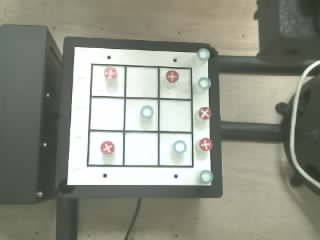blue circle: (198, 77, 212, 89), (197, 48, 210, 60), (173, 140, 186, 152), (141, 105, 153, 118), (200, 170, 212, 183)
board: (67, 46, 212, 185)
cells: (89, 132, 122, 165), (125, 133, 157, 165), (91, 98, 123, 129), (92, 65, 124, 96), (125, 99, 157, 130), (160, 134, 191, 165), (160, 100, 191, 131), (126, 67, 157, 97), (166, 72, 178, 82)
grid: (87, 64, 193, 167)
red cross: (100, 141, 114, 154), (104, 67, 117, 79), (199, 138, 212, 150), (199, 107, 211, 119), (166, 70, 178, 82)
